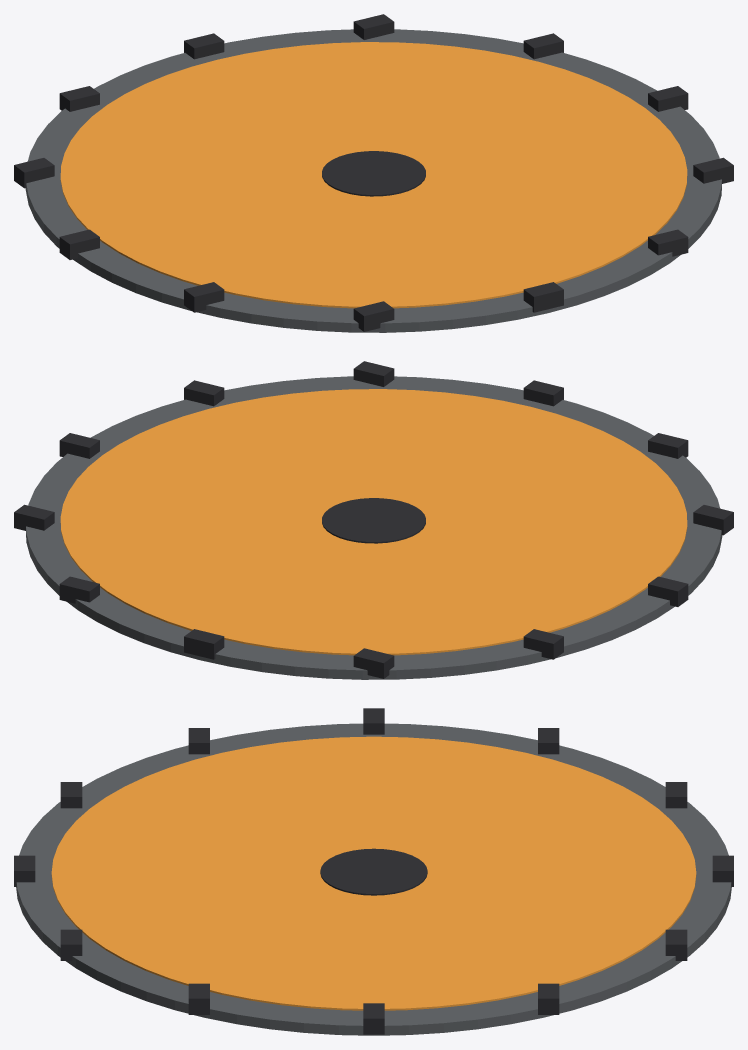
Rendered from SM_LandingPad.glb.
3 renders of one model, top to bottom at view 1: azimuth 30°, elevation 25°; view 2: azimuth 150°, elevation 25°; view 3: azimuth 270°, elevation 25°, orthographic. The views are drawn at different scales.
Parts seen in each view (by area): view 1: SM_LandingPad; view 2: SM_LandingPad; view 3: SM_LandingPad.
Boxes of the visible parts, x1,y1,x2,y2 form: SM_LandingPad: [14, 14, 733, 332]; SM_LandingPad: [14, 361, 733, 679]; SM_LandingPad: [14, 708, 733, 1035].
Size of the model in its own units: 41 by 1.3 by 40.2.
